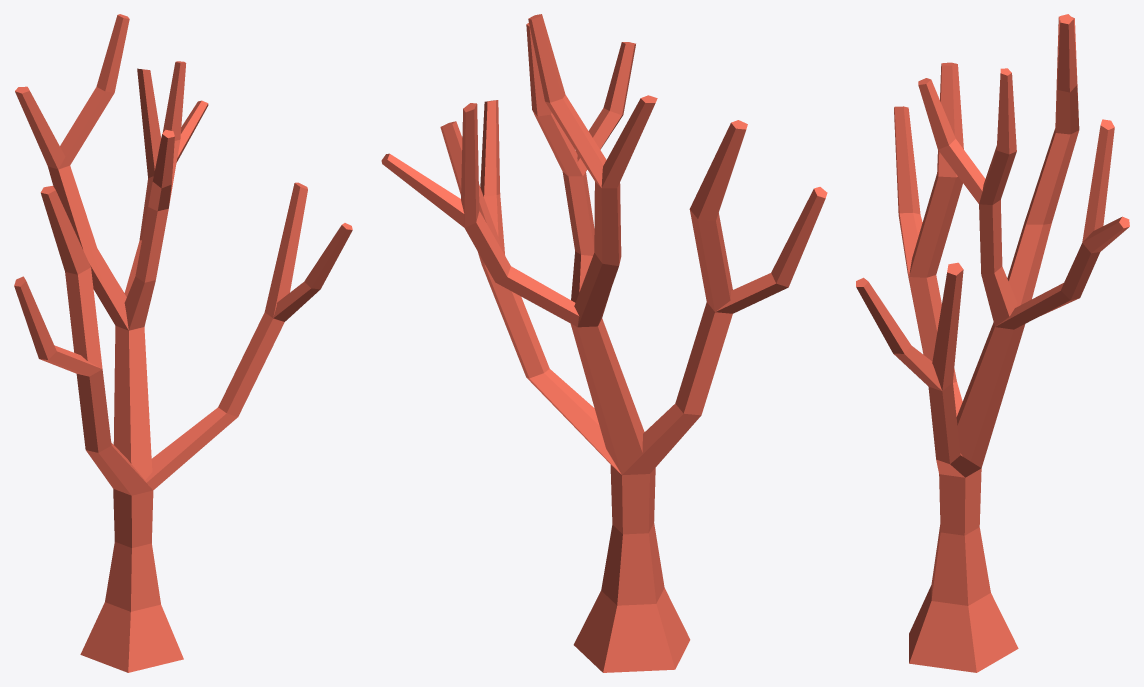
The model's file is coral-zone0.glb.
The picture shows the model from 3 angles, left to right: view 1: azimuth 30°, elevation 25°; view 2: azimuth 150°, elevation 25°; view 3: azimuth 270°, elevation 25°; orthographic projection. The views are drawn at different scales.
Visible parts, largest first — view 1: coral-branch-a.001; view 2: coral-branch-a.001; view 3: coral-branch-a.001.
Boxes of the visible parts, x1=… form: coral-branch-a.001: x1=14, y1=14, x2=352, y2=672; coral-branch-a.001: x1=381, y1=14, x2=827, y2=672; coral-branch-a.001: x1=856, y1=14, x2=1129, y2=672.
Bounding box in the file's own units: 556 × 979 × 373.
